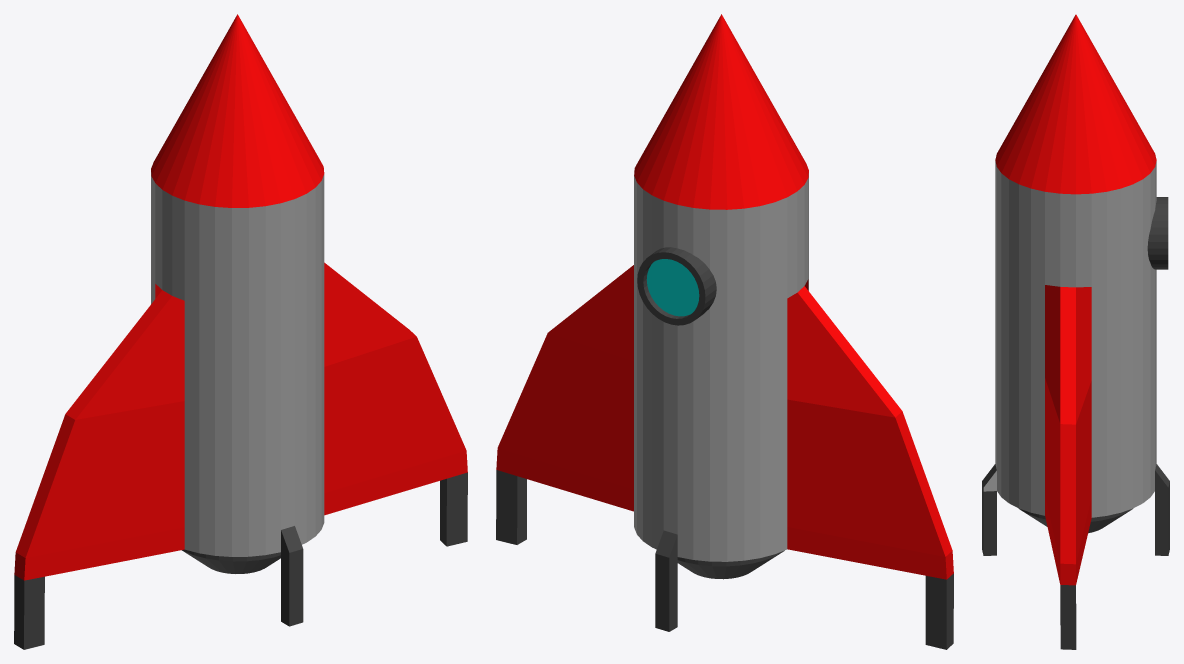
Rendered from foguete2devdd.fbx.
3 renders of one model, left to right at view 1: azimuth 30°, elevation 25°; view 2: azimuth 150°, elevation 25°; view 3: azimuth 270°, elevation 25°, orthographic. The views are drawn at different scales.
Parts seen in each view (by area): view 1: Cylinder; view 2: Cylinder; view 3: Cylinder.
Part boxes in pixels (box(x1,y1,x2,y2)): Cylinder: box(14, 14, 467, 649); Cylinder: box(496, 14, 953, 649); Cylinder: box(982, 14, 1169, 649).
Size of the model in its own units: 594 by 731 by 233.
